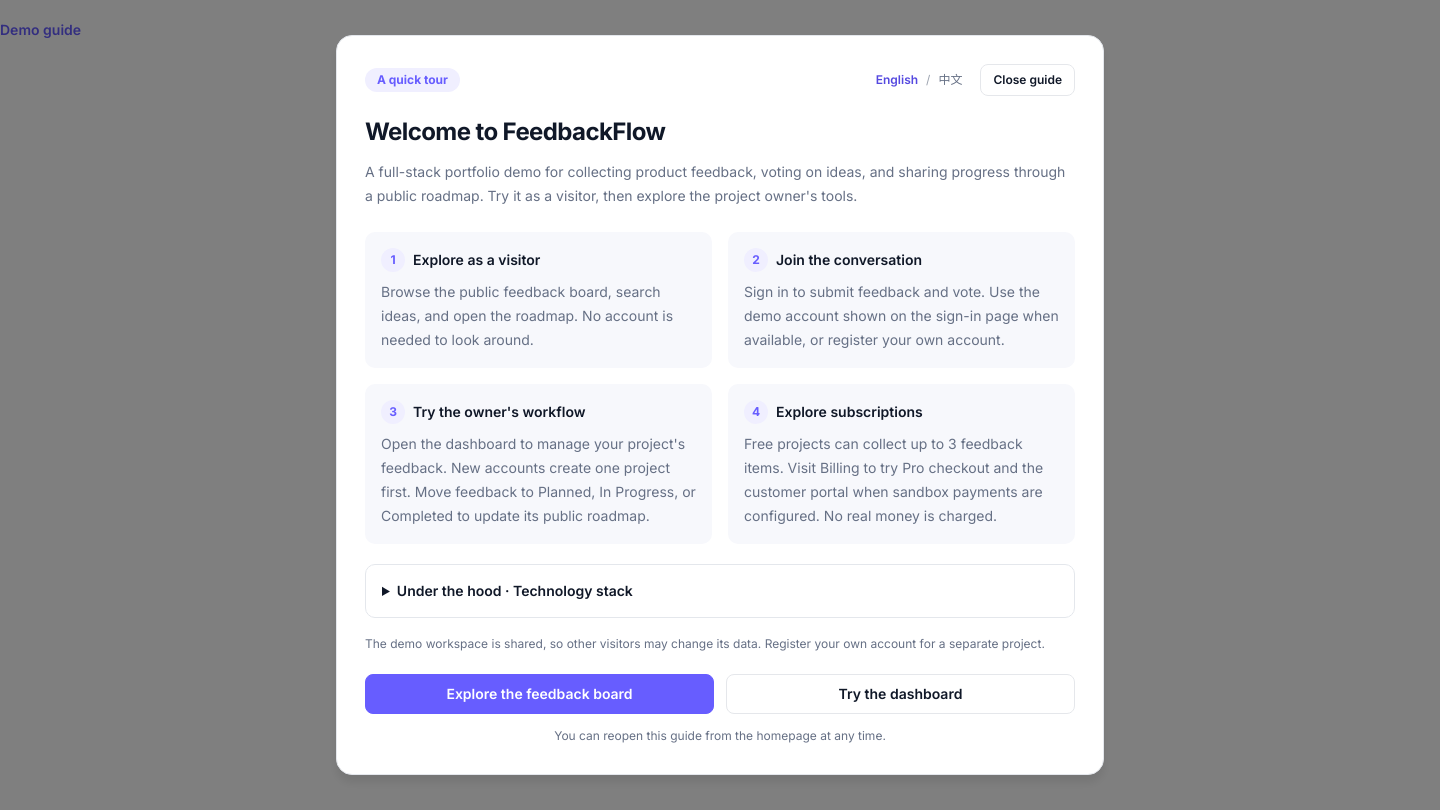
Scenario: DemoGuide › remembers dismissal when following an experience link
The image size is (1440, 810).
Click the link "Explore the feedback board" at (540, 694), box [365,674,714,714]
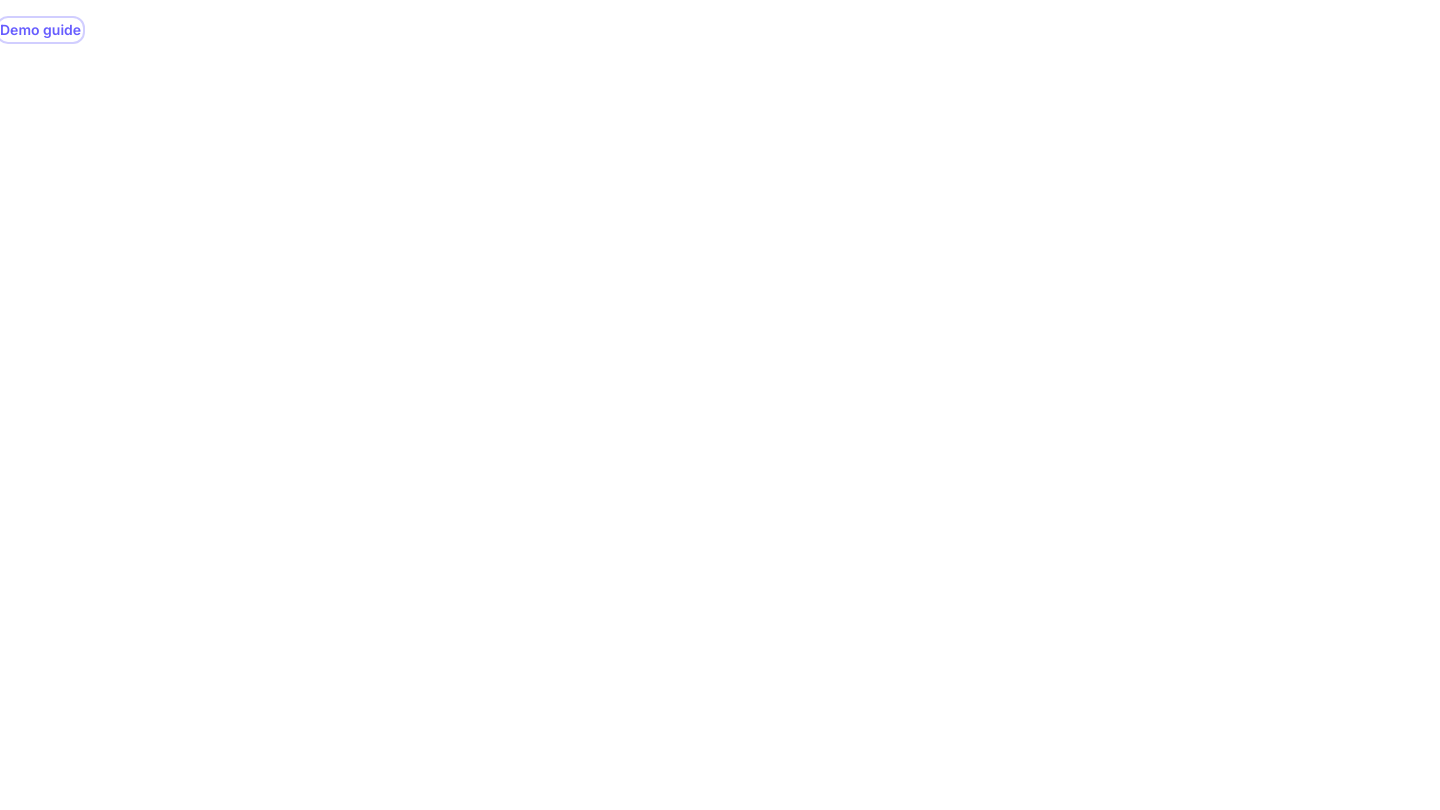
Now the dialog is gone
